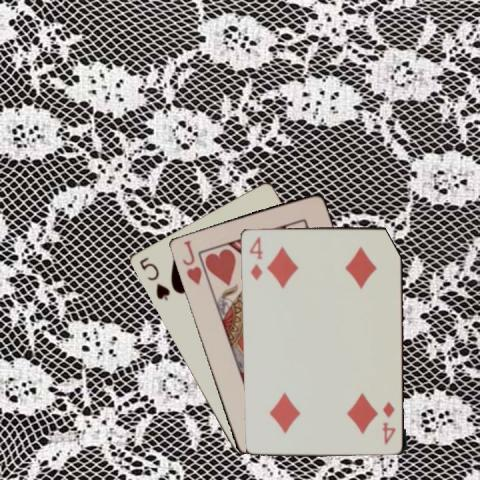4d: (246, 234, 263, 282), (380, 399, 397, 445)
5s: (136, 254, 171, 302)
Jh: (179, 237, 203, 286)
